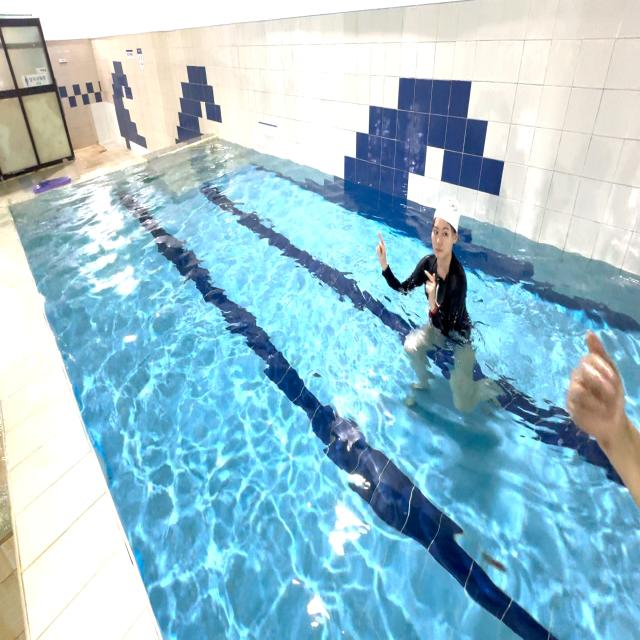Swimming: (376, 196, 514, 416)
